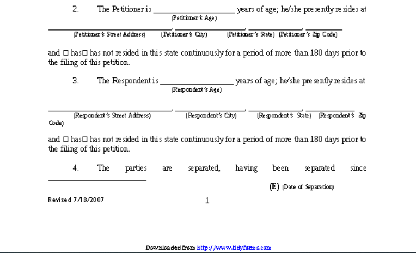textline: (46, 21, 173, 32), (46, 102, 173, 113), (47, 173, 147, 182), (159, 76, 235, 86), (152, 5, 236, 14), (173, 102, 246, 112), (173, 22, 246, 31), (248, 21, 303, 31), (305, 102, 356, 112), (247, 103, 303, 112), (304, 22, 343, 31)
